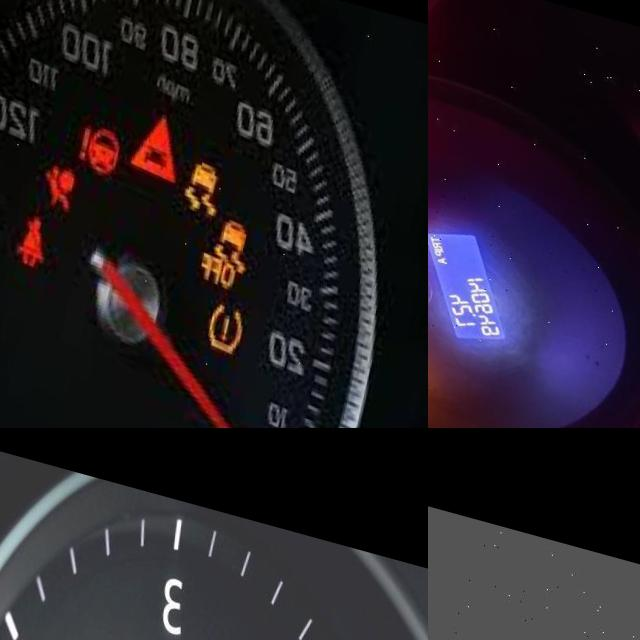Electronic Power Steering Warning: (77, 105, 129, 172)
Seat Belt: (20, 204, 56, 265)
